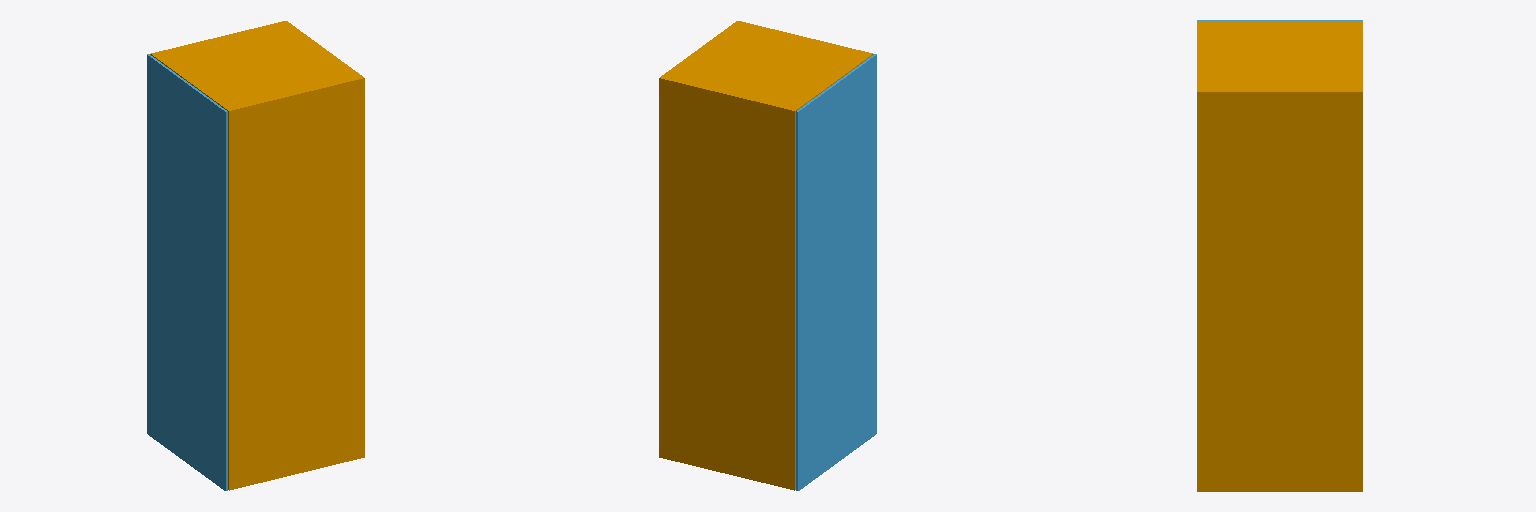
URDF robot description (kitchen2):
<robot name="kitchen2">

  <link name="kitchen2_top">

    <inertial>
      <mass value="70.0" />
      <origin xyz="0 0 0" />
      <inertia  ixx="0.0" ixy="0.0"  ixz="0.0"  iyy="0.0"  iyz="0.0"  izz="0.0" />
    </inertial>
    
    <visual>
      <origin xyz="0.6 0 0.8" rpy="0 0 0" />
      <geometry>
	<box size="0.6 0.6 1.6" />
      </geometry>
    </visual>

    <collision>
      <origin xyz="0.6 0 0.8" rpy="0 0 0" />
      <geometry>
        <box size="0.6 0.6 1.6" />
     </geometry>
    </collision>

  </link>
  
<gazebo reference="kitchen2_top">
    <material>Custom/kitchen2_side</material>	
    <static>true</static>
    <turnGravityOff>true</turnGravityOff>
 </gazebo>

<joint name="kitchen2_joint" type="fixed">
	<parent link="kitchen2_top"/>
	<child link="kitchen2_side"/>
</joint>

  <link name="kitchen2_side">

    <inertial>
      <mass value="70.0" />
      <origin xyz="0 0 0" />
      <inertia  ixx="0.0" ixy="0.0"  ixz="0.0"  iyy="0.0"  iyz="0.0"  izz="0.0" />
    </inertial>
    
    <visual>
      <origin xyz="0.29 0.0 0.8" rpy="0 0 -1.5708" />
      <geometry>
        <box size="0.6 0.01 1.6" />
      </geometry> 
     </visual>

    <collision>
      <origin xyz="0.29 0.0 0.8" rpy="0 0 -1.5708" />
      <geometry>
        <box size="0.6 0.01 1.6" />
      </geometry>
    </collision>

  </link>

<gazebo reference="kitchen2_side">
    <material>Custom/kitchen2_front</material>	
    <static>true</static>
    <turnGravityOff>true</turnGravityOff>
</gazebo>

  <gazebo>
    <static>true</static>
  </gazebo>

</robot>

--- Render facts (derived) ---
The picture shows the robot from 3 angles, left to right: view 1: azimuth 30°, elevation 25°; view 2: azimuth 150°, elevation 25°; view 3: azimuth 270°, elevation 25°; orthographic projection.
Model kitchen2 with 2 links and 1 joints (1 fixed), rooted at kitchen2_top, posed every joint at zero.
Visible links, largest first — view 1: kitchen2_top, kitchen2_side; view 2: kitchen2_top, kitchen2_side; view 3: kitchen2_top.
Link boxes in pixels (box(x1,y1,x2,y2)): kitchen2_top: box(150, 21, 364, 490); kitchen2_side: box(147, 54, 227, 490); kitchen2_top: box(659, 21, 873, 490); kitchen2_side: box(796, 54, 876, 490); kitchen2_top: box(1197, 22, 1362, 491).
Bounding box of the posed robot: 0.615 × 0.6 × 1.6 m (x, y, z).
Geometry: primitives only (box / cylinder / sphere), no mesh files.